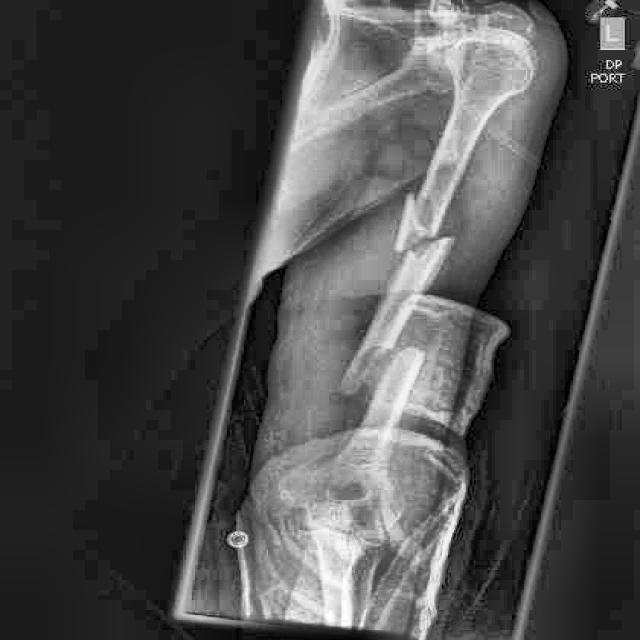humerus: (306, 170, 497, 429)
